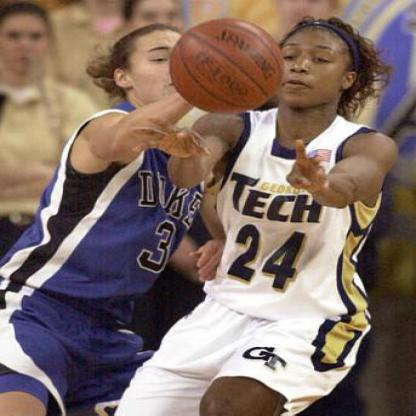face: (270, 21, 350, 111), (128, 26, 205, 111), (1, 5, 53, 74), (129, 1, 185, 51)
